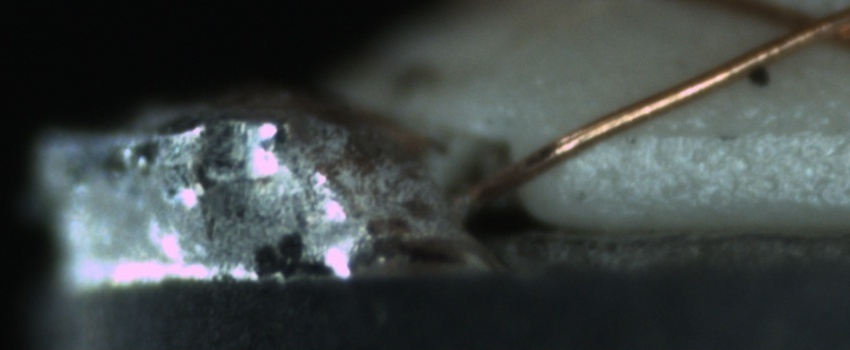CL: (766, 2, 848, 55)
DL: (618, 96, 848, 164)
